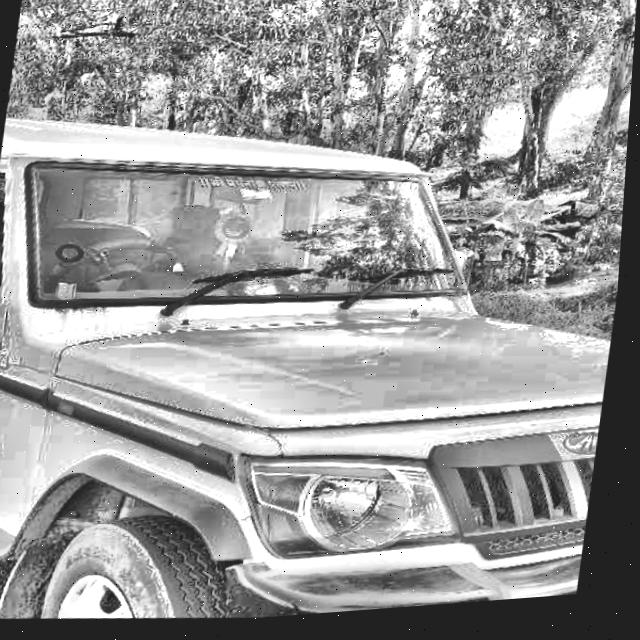light_vehicle: (0, 77, 634, 640)
